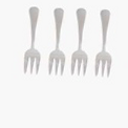fork: (93, 8, 118, 89)
